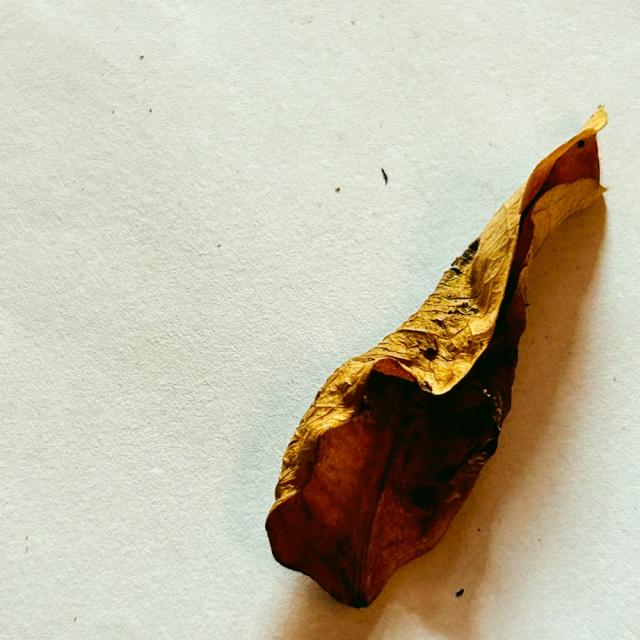DryLeaf_Lemon: (266, 107, 607, 607)
